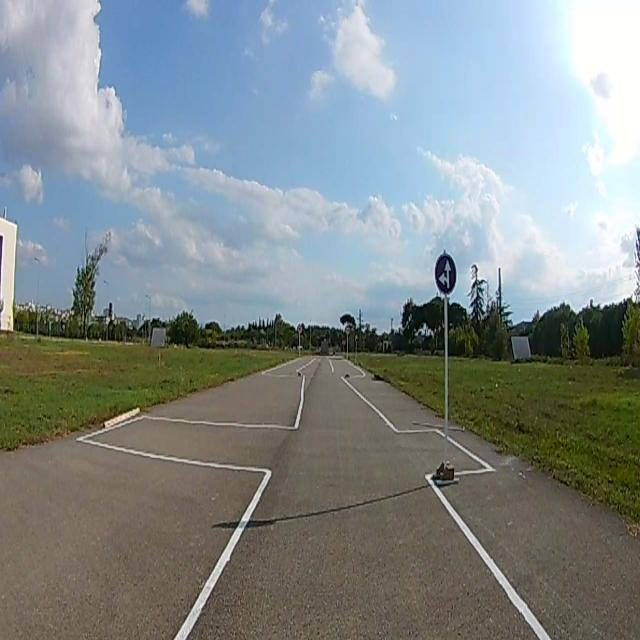ilerisol: (434, 254, 456, 294)
